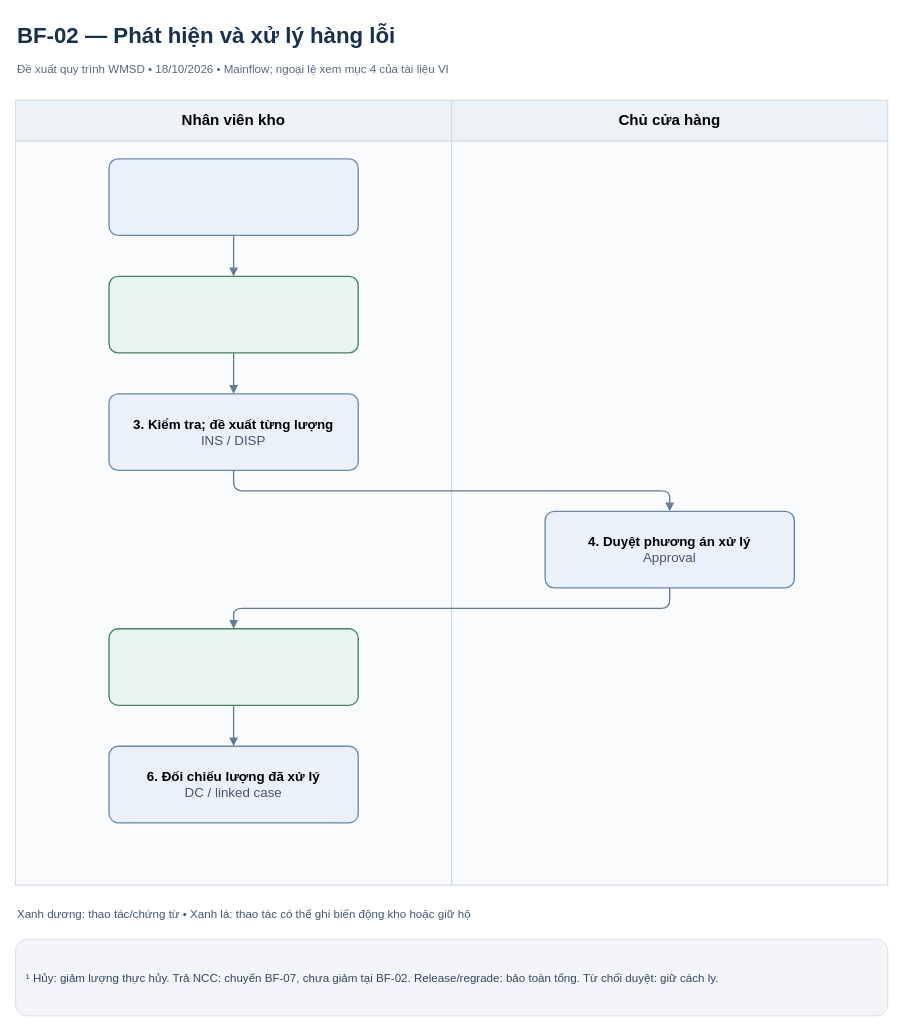
The diagram is 903 pixels wide and 1032 high, and some of its shapes have lost their labels. The shapes that lost their labels are listed below. From the top down, each one's centre as x and y in pixels, then its label:
the point at 233,197: 1. Ghi lỗi và nguồn hàng DC
the point at 233,314: 2. Chặn xuất; cách ly ngay TO-QUARANTINE
the point at 233,667: 5. Thực hiện đúng phương án¹ SCRAP / Movement / SR
